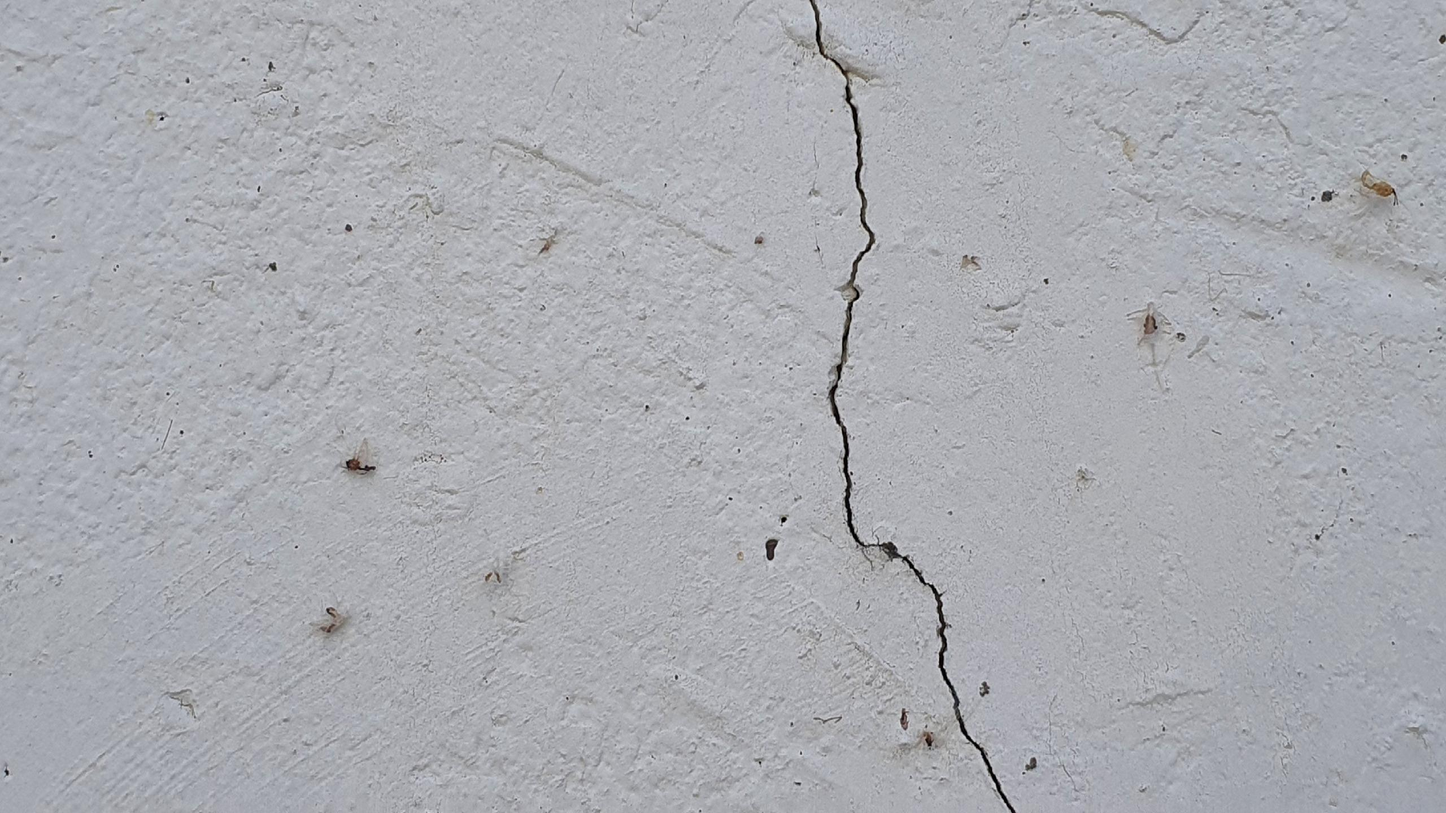crack: (807, 0, 1019, 812)
